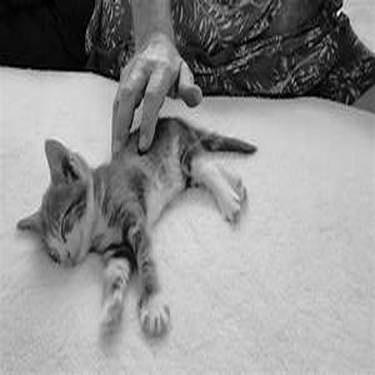cat: (11, 112, 257, 364)
